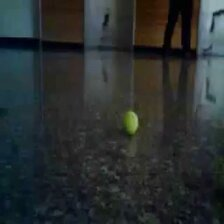tennis: (118, 110, 140, 136)
